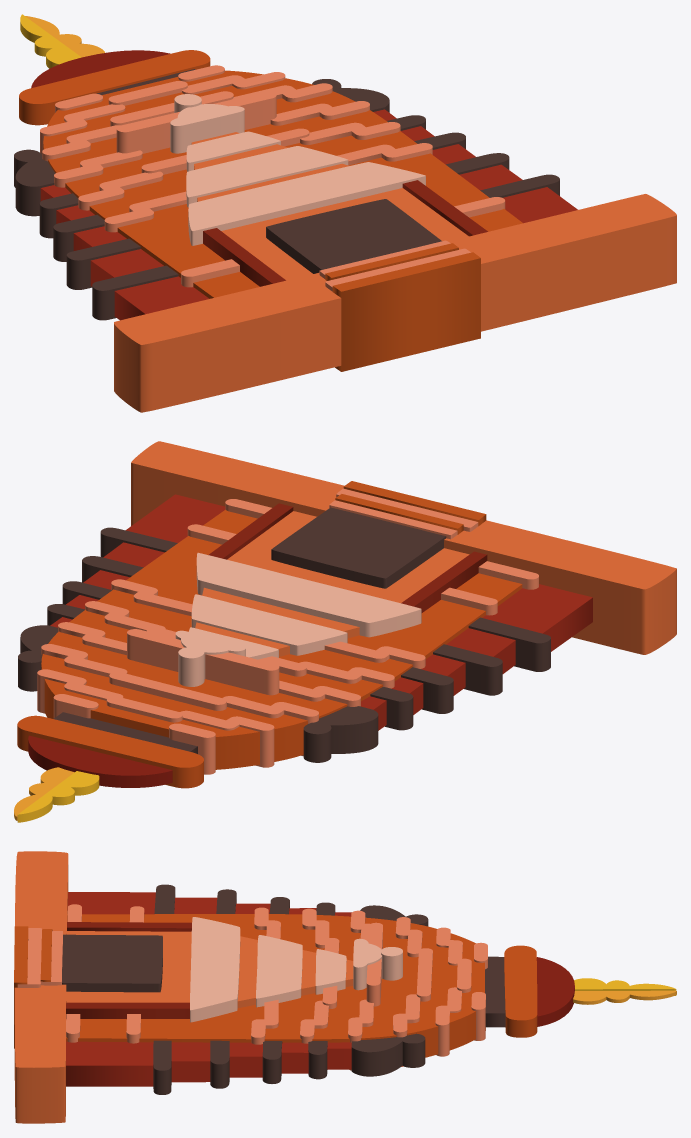
Rendered from emoji_u1f6d5.glb.
3 views of the same model, one above another, from view 1: azimuth 30°, elevation 25°; view 2: azimuth 150°, elevation 25°; view 3: azimuth 270°, elevation 25° (orthographic). The views are drawn at different scales.
Parts seen in each view (by area): view 1: emoji_u1f6d5; view 2: emoji_u1f6d5; view 3: emoji_u1f6d5.
Boxes of the visible parts, <box> form: emoji_u1f6d5: <box>14,14,676,412</box>; emoji_u1f6d5: <box>14,441,676,822</box>; emoji_u1f6d5: <box>14,851,676,1123</box>.
Size of the model in its own units: 0.0266 by 0.0044 by 0.0345.
